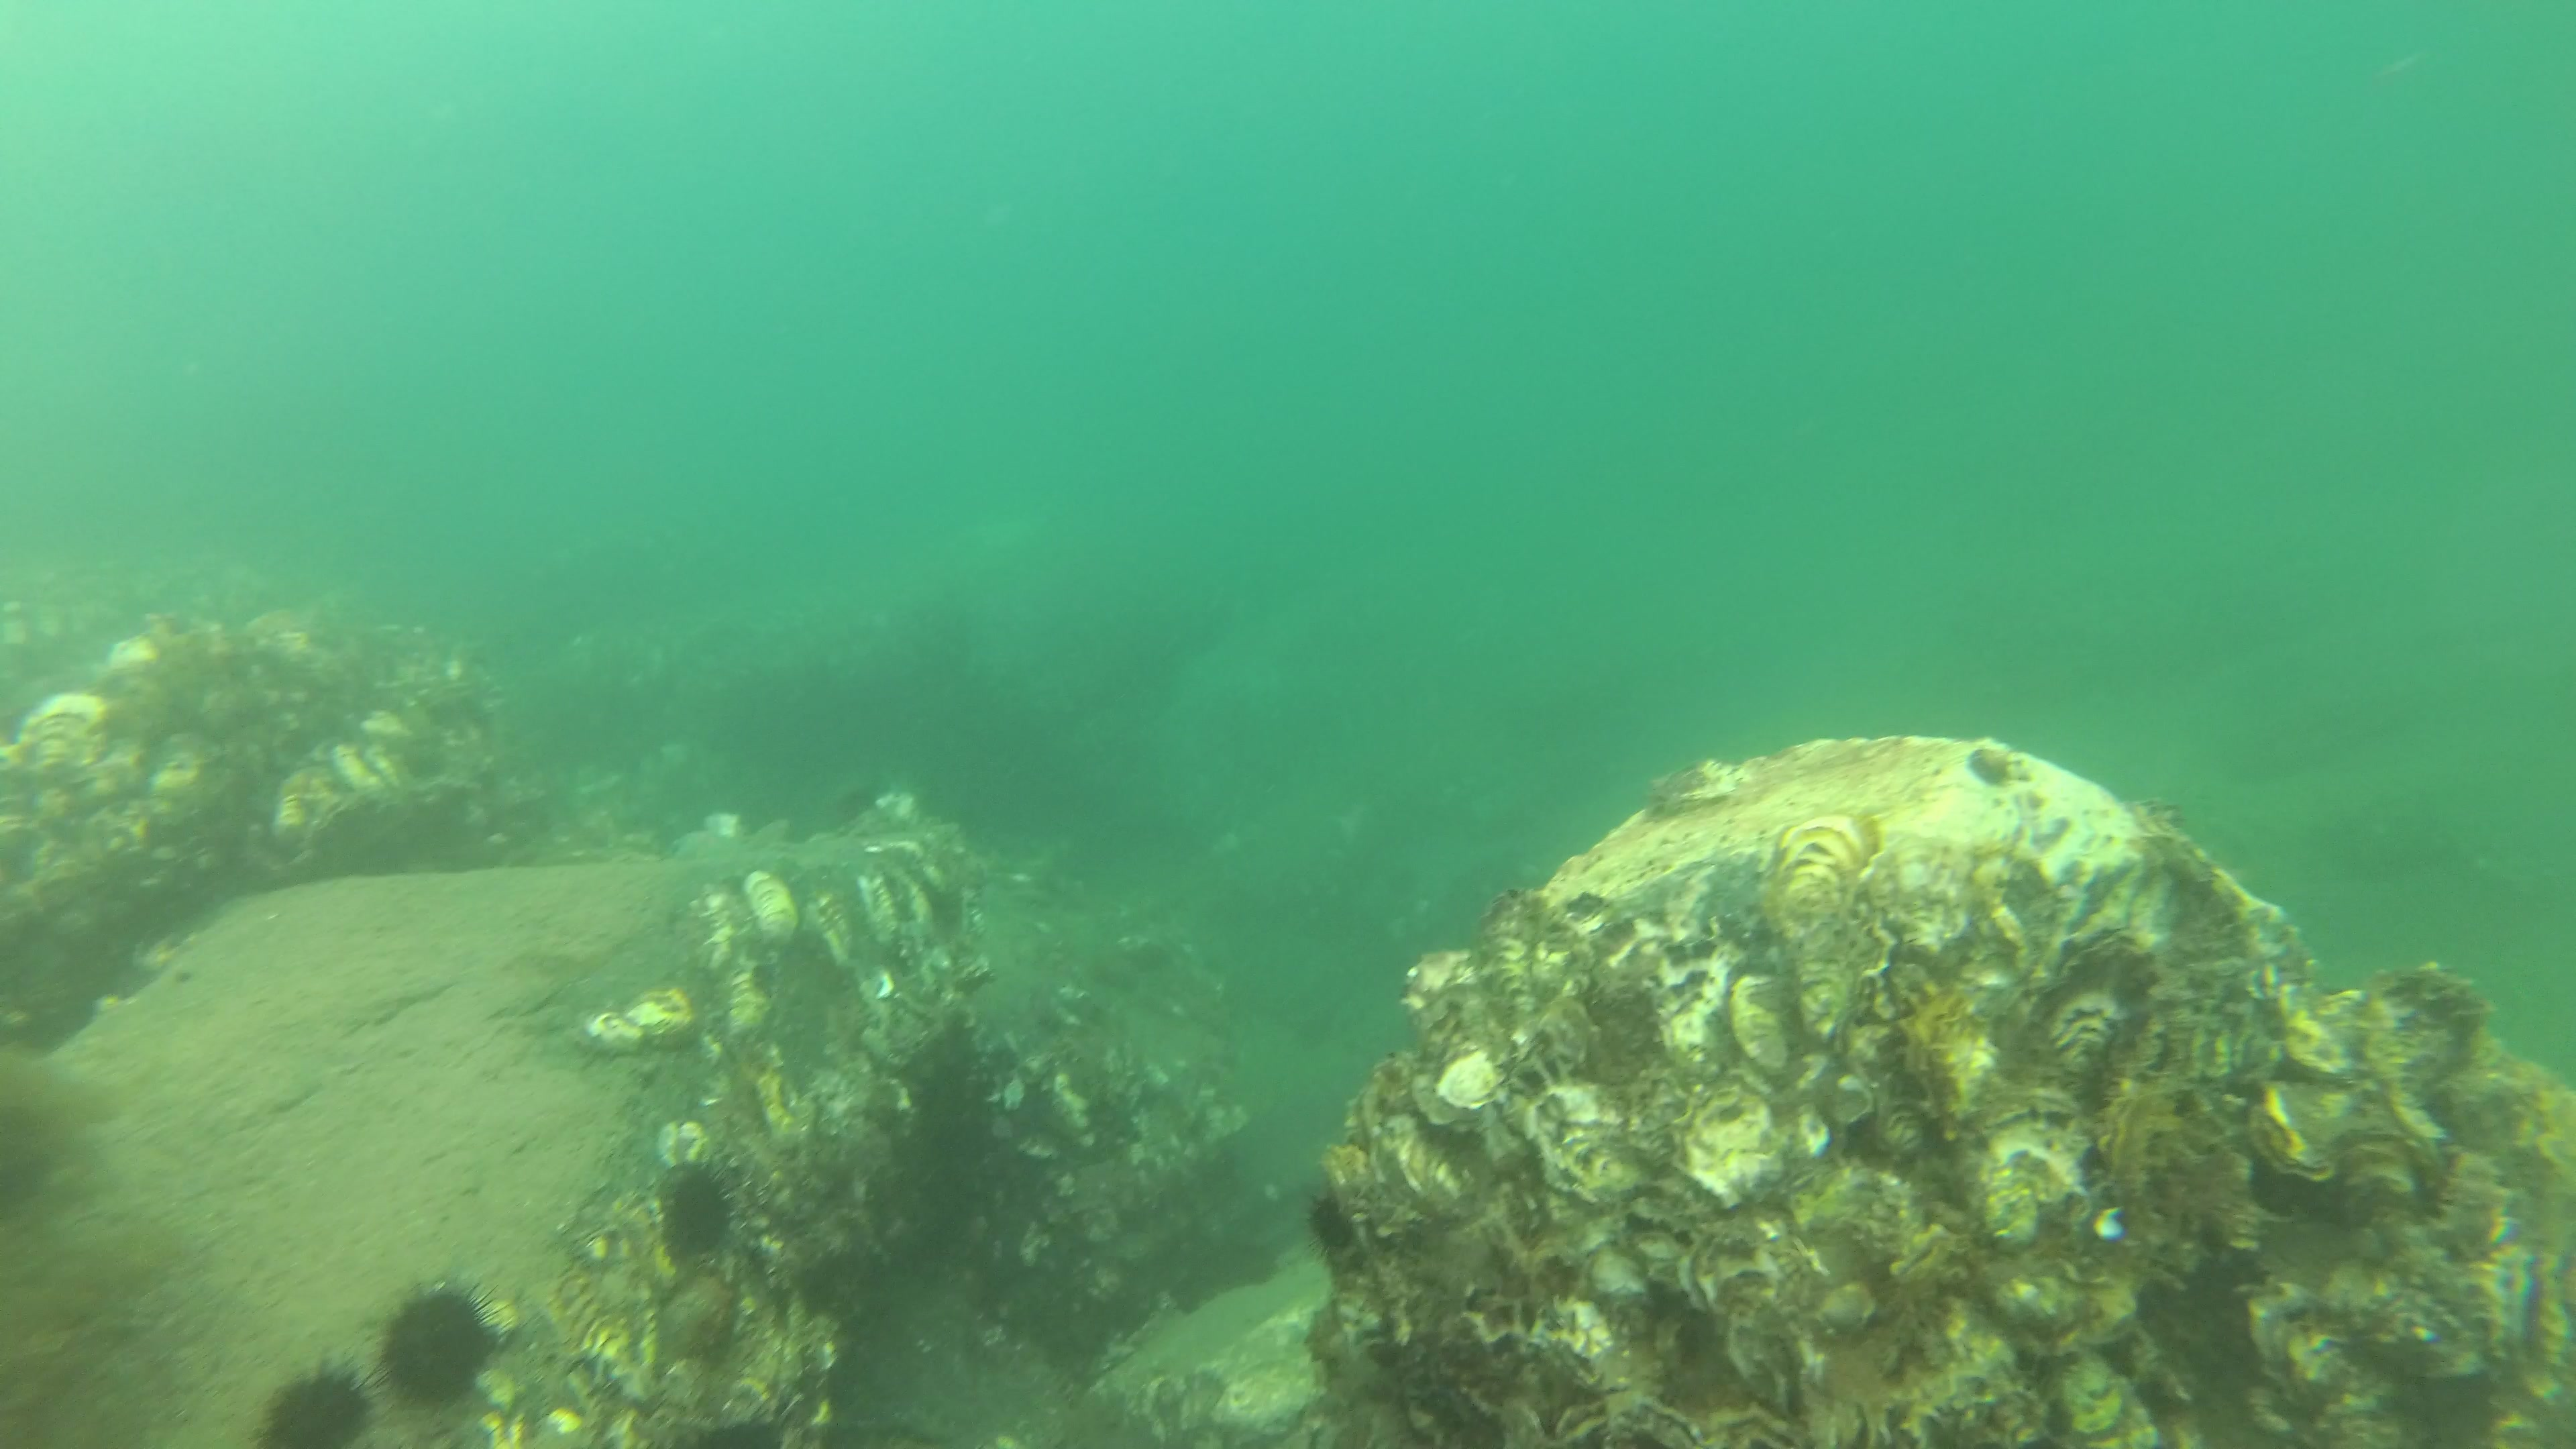echinus: (366, 1279, 518, 1415), (648, 1154, 750, 1272), (244, 1366, 382, 1449)
